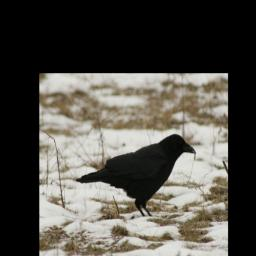Crow: (77, 129, 199, 219)
